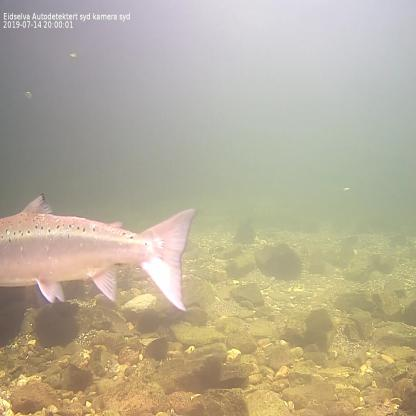salmon: (0, 190, 201, 313)
